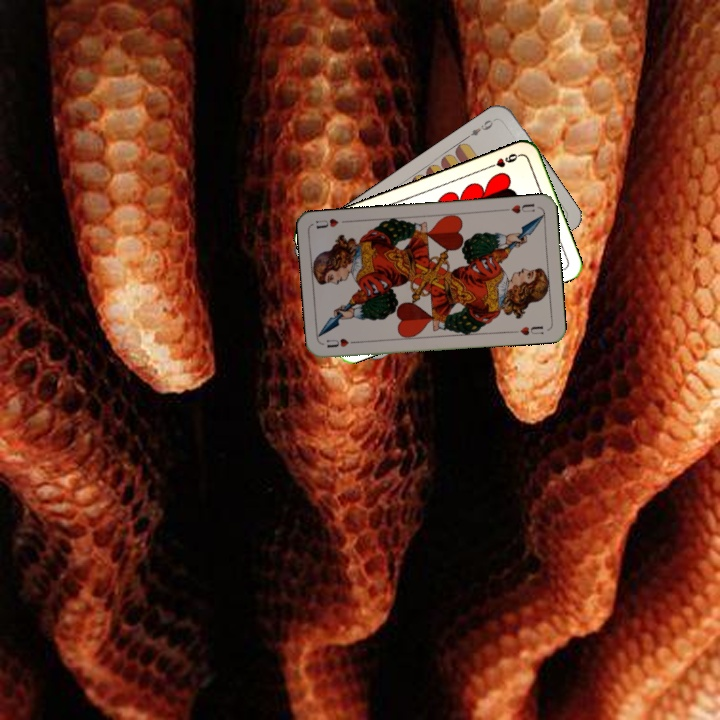E9: (463, 114, 499, 141)
H9: (484, 149, 523, 171)
HU: (500, 199, 537, 216), (322, 335, 361, 350)
